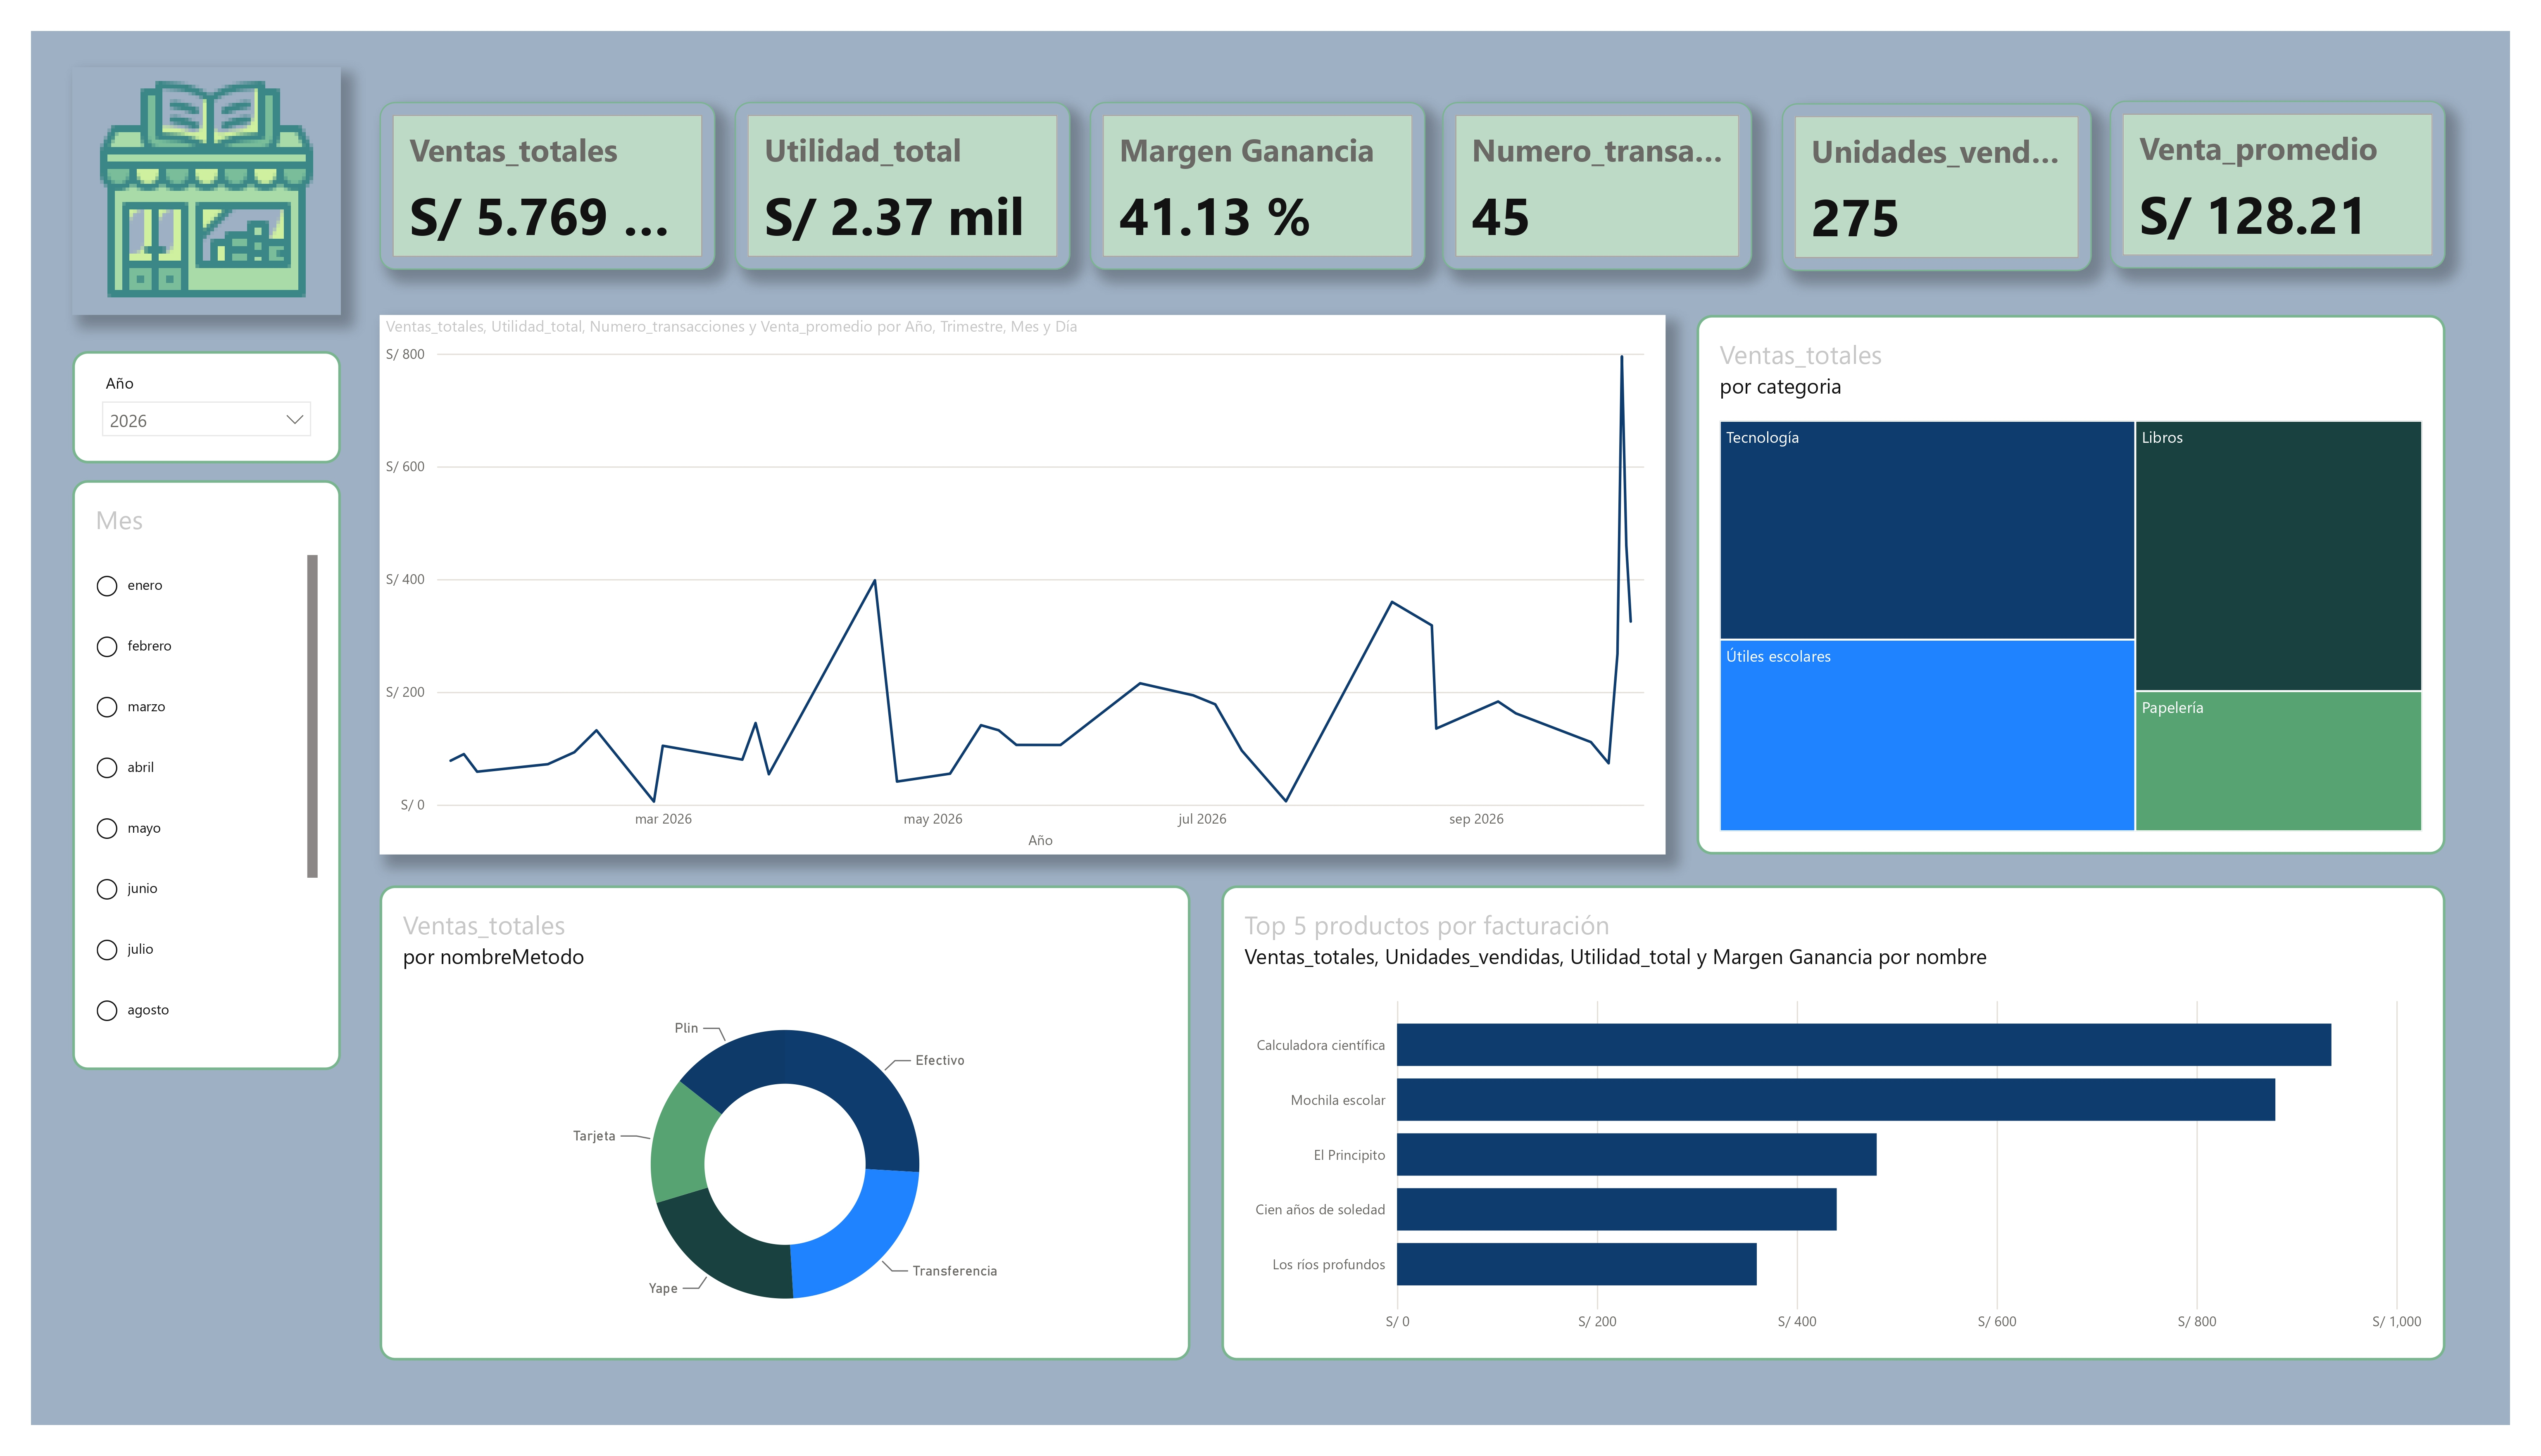

What the dashboard file says about the page in this screenshot:
{"tool":"powerbi","page":{"name":"RESUMEN_EJECUTIVO","canvas":[1920,1080],"ordinal":3},"visuals":[{"type":"cardVisual","fields":{"Data":["fac_ventas.Ventas_totales"]},"box":[270,55,260,130],"z":0},{"type":"cardVisual","fields":{"Data":["fac_ventas.Utilidad_total"]},"box":[545,55,260,130],"z":1000},{"type":"cardVisual","fields":{"Data":["fac_ventas.Margen Ganancia"]},"box":[820,55,260,130],"z":2000},{"type":"cardVisual","fields":{"Data":["fac_ventas.Numero_transacciones"]},"box":[1093.3,55,240,130],"z":3000},{"type":"cardVisual","fields":{"Data":["fac_ventas.Unidades_vendidas"]},"box":[1356,56,240,130],"z":4000},{"type":"cardVisual","fields":{"Data":["fac_ventas.Venta_promedio"]},"box":[1610,54,260,130],"z":5000},{"type":"lineChart","fields":{"Category":["dim_tiempo.fecha.Variación.Jerarquía de fechas.Año","dim_tiempo.fecha.Variación.Jerarquía de fechas.Trimestre","dim_tiempo.fecha.Variación.Jerarquía de fechas.Mes","dim_tiempo.fecha.Variación.Jerarquía de fechas.Día"],"Y":["fac_ventas.Ventas_totales"]},"box":[270,220,996,418],"z":6000},{"type":"clusteredBarChart","title":"Top 5 productos por facturación","fields":{"Category":["dim_producto.nombre"],"Y":["fac_ventas.Ventas_totales"]},"box":[922,662,948,368],"z":7000},{"type":"listSlicer","fields":{"Values":["dim_tiempo.fecha.Variación.Jerarquía de fechas.Mes"]},"box":[31.7,348.3,208.3,456.7],"z":8000},{"type":"treemap","fields":{"Group":["dim_producto.categoria"],"Values":["fac_ventas.Ventas_totales"]},"box":[1290,220,580,418],"z":9000},{"type":"slicer","fields":{"Values":["dim_tiempo.fecha.Variación.Jerarquía de fechas.Año"]},"box":[31.7,248.3,208.3,86.7],"z":10000},{"type":"donutChart","fields":{"Category":["dim_metodoPago.nombreMetodo"],"Y":["fac_ventas.Ventas_totales"]},"box":[270,662,628,368],"z":11000},{"type":"image","box":[31.7,28.3,208.3,191.7],"z":12000}]}

Visuals, with their boxes on the page's 1920x1080 design canvas (x1, y1, x2, y2). These are canvas units, not pixel positions in the 2541x1456 screenshot, which may show the page scaled, cropped or inside an application window:
cardVisual - fac_ventas.Ventas_totales: [270,55,530,185]
cardVisual - fac_ventas.Utilidad_total: [545,55,805,185]
cardVisual - fac_ventas.Margen Ganancia: [820,55,1080,185]
cardVisual - fac_ventas.Numero_transacciones: [1093,55,1333,185]
cardVisual - fac_ventas.Unidades_vendidas: [1356,56,1596,186]
cardVisual - fac_ventas.Venta_promedio: [1610,54,1870,184]
lineChart - dim_tiempo.fecha.Variación.Jerarquía de fechas.Año x dim_tiempo.fecha.Variación.Jerarquía de fechas.Trimestre: [270,220,1266,638]
"Top 5 productos por facturación" clusteredBarChart: [922,662,1870,1030]
listSlicer - dim_tiempo.fecha.Variación.Jerarquía de fechas.Mes: [32,348,240,805]
treemap - dim_producto.categoria x fac_ventas.Ventas_totales: [1290,220,1870,638]
slicer - dim_tiempo.fecha.Variación.Jerarquía de fechas.Año: [32,248,240,335]
donutChart - dim_metodoPago.nombreMetodo x fac_ventas.Ventas_totales: [270,662,898,1030]
image: [32,28,240,220]
